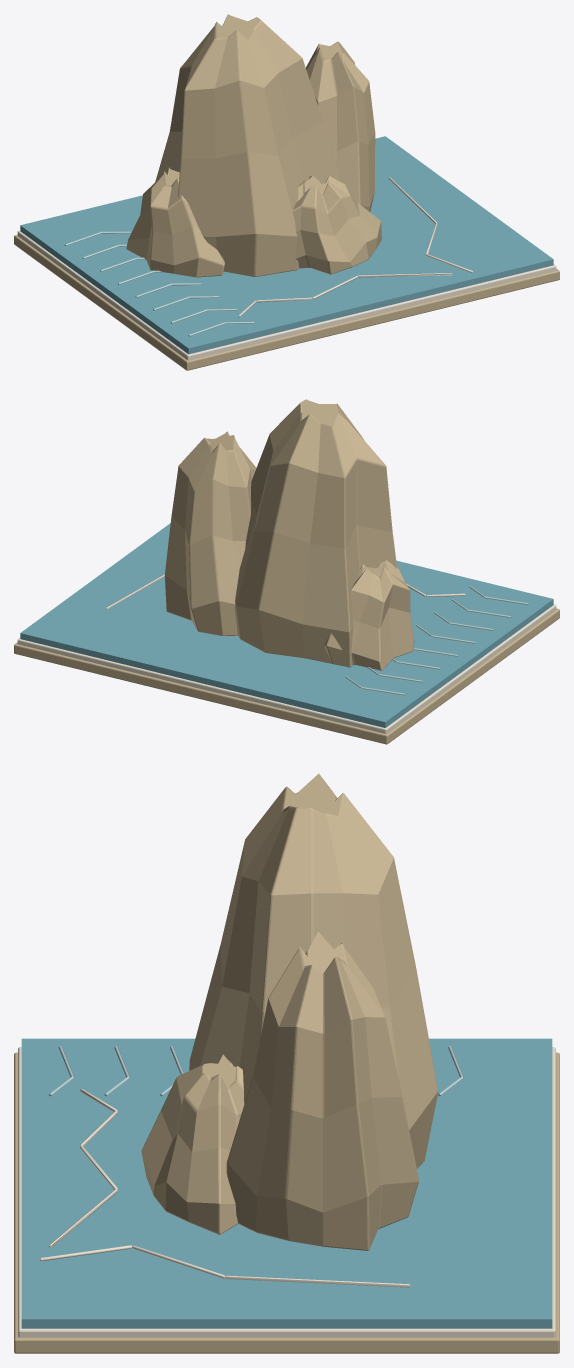
Rendered from shamanka.glb.
The picture shows the model from 3 angles, top to bottom: view 1: azimuth 30°, elevation 25°; view 2: azimuth 150°, elevation 25°; view 3: azimuth 270°, elevation 25°; orthographic projection. The views are drawn at different scales.
Parts seen in each view (by area): view 1: shamanka_stone, shamanka_glass, shamanka_ivory, shamanka_silver; view 2: shamanka_stone, shamanka_glass, shamanka_ivory, shamanka_silver; view 3: shamanka_stone, shamanka_glass, shamanka_ivory, shamanka_silver.
Part boxes in pixels (x1,y1,x2,y2): shamanka_stone: (14, 14, 559, 370); shamanka_glass: (20, 136, 553, 354); shamanka_ivory: (17, 177, 556, 360); shamanka_silver: (65, 231, 254, 336); shamanka_stone: (14, 399, 559, 744); shamanka_glass: (20, 523, 553, 727); shamanka_ivory: (17, 574, 556, 733); shamanka_silver: (345, 586, 528, 695); shamanka_stone: (14, 773, 559, 1353); shamanka_glass: (21, 1038, 552, 1328); shamanka_ivory: (18, 1047, 555, 1337); shamanka_silver: (49, 1046, 463, 1096).
Bounding box in the file's own units: 6.6 × 4.19 × 5.3.
